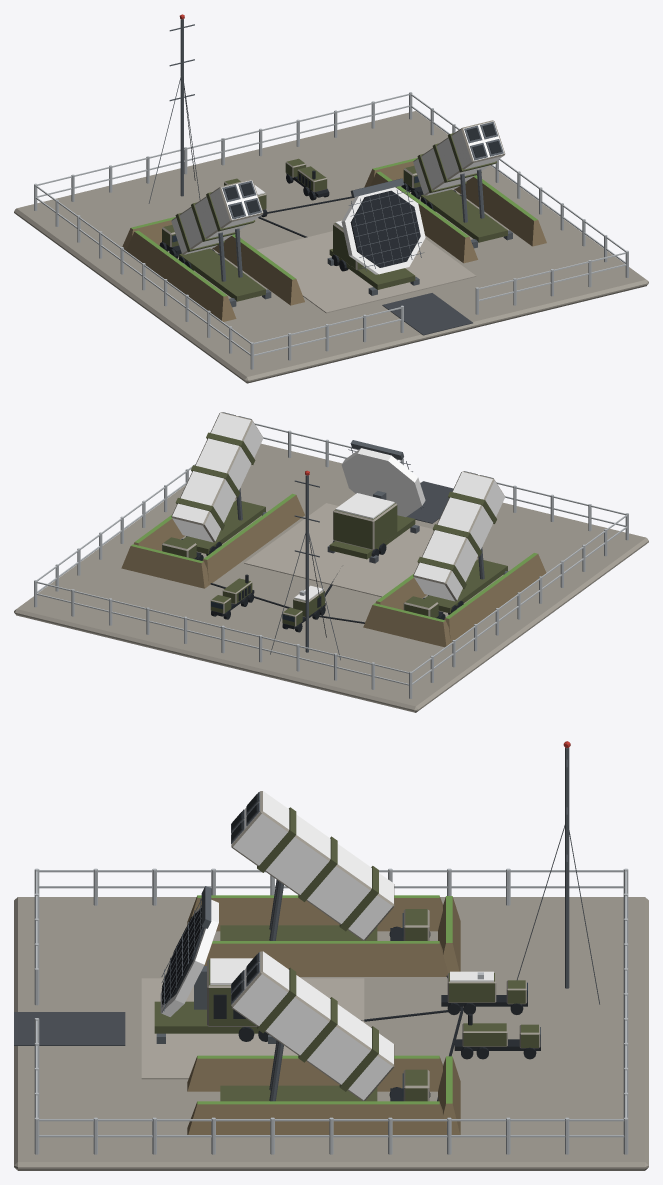
File: sam_launcher.glb
The picture shows the model from 3 angles, top to bottom: view 1: azimuth 30°, elevation 25°; view 2: azimuth 150°, elevation 25°; view 3: azimuth 270°, elevation 25°; orthographic projection. The views are drawn at different scales.
Parts seen in each view (by area): view 1: SAMLauncher; view 2: SAMLauncher; view 3: SAMLauncher.
Part boxes in pixels (left/top/right/bottom): SAMLauncher: left=14, top=14, right=648, bottom=383; SAMLauncher: left=14, top=412, right=648, bottom=712; SAMLauncher: left=14, top=741, right=648, bottom=1170.
Size of the model in its own units: 0.97 by 0.431 by 0.97.
